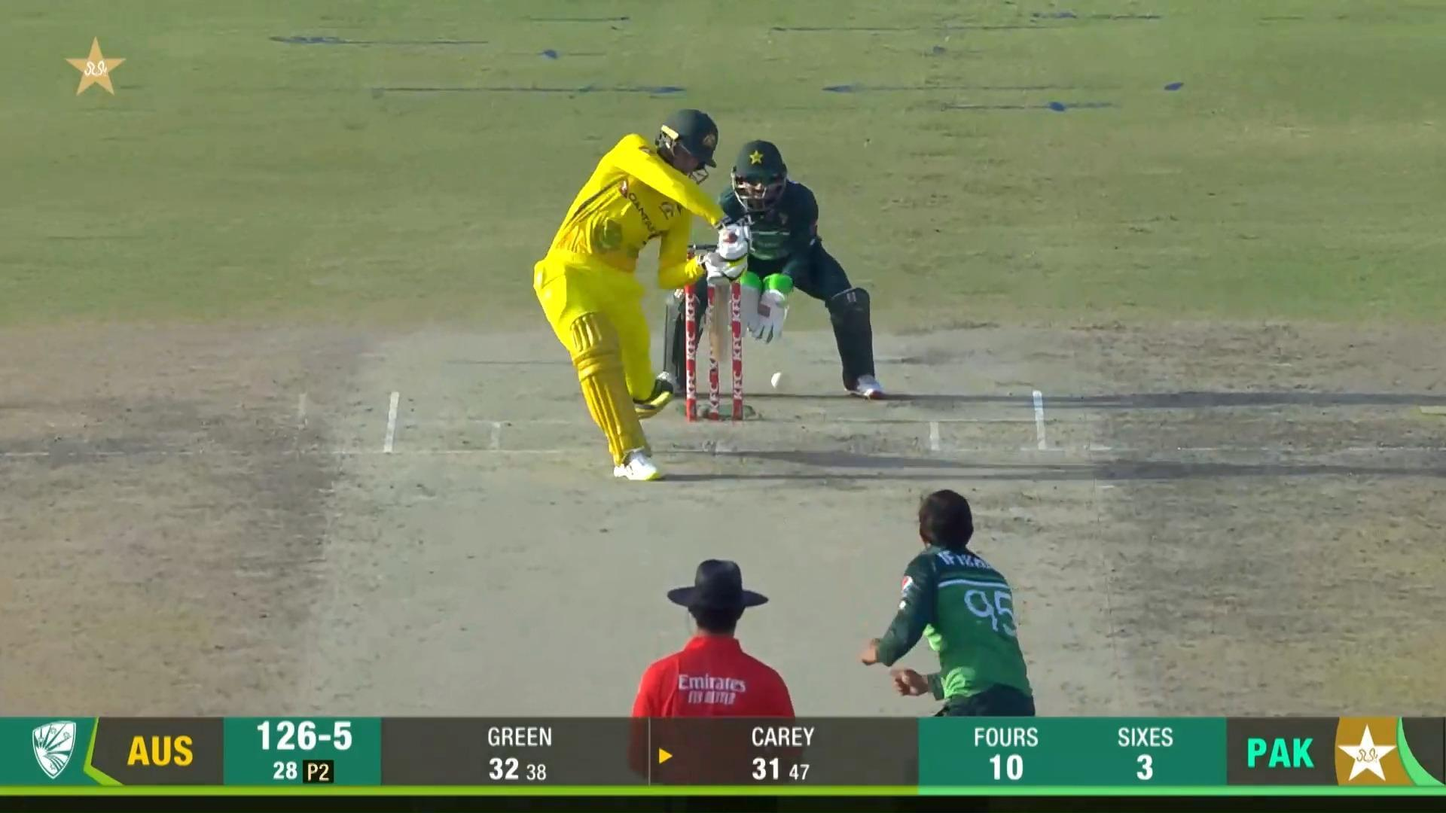BM 1: (531, 106, 756, 485)
BO: (857, 486, 1039, 718)
